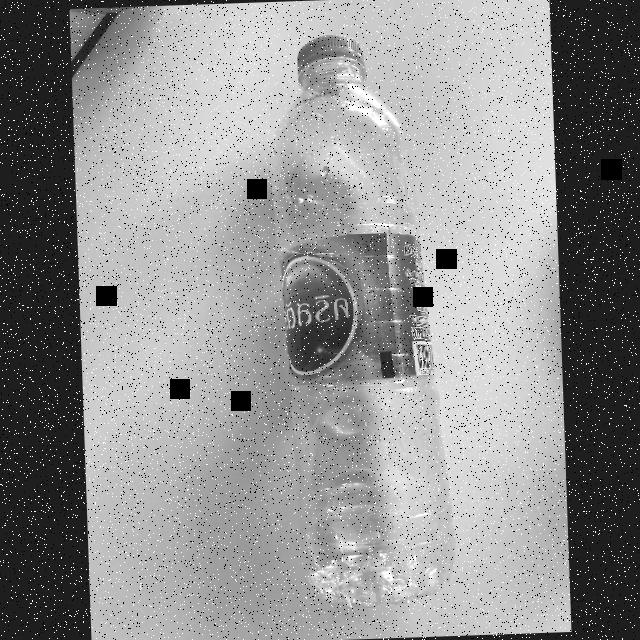plastic_bottle: (261, 18, 461, 614)
